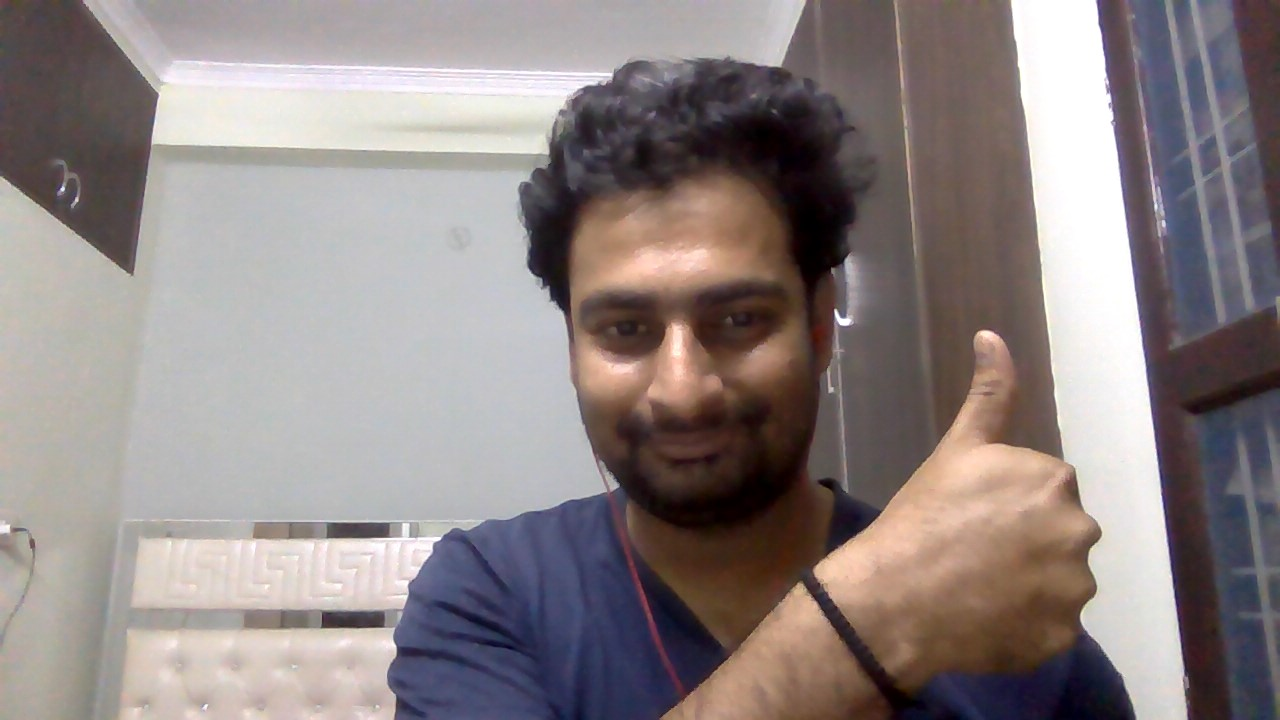Save: (823, 318, 1114, 679)
